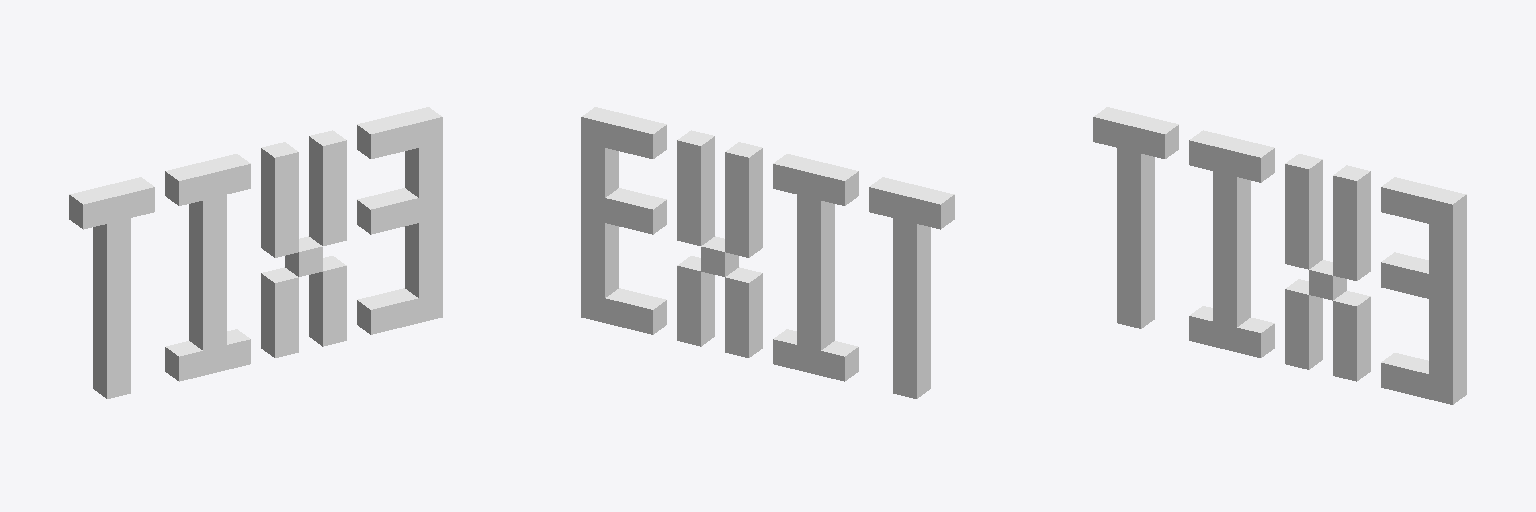
The model's file is title_exit.obj.
3 renders of one model, left to right at view 1: azimuth 30°, elevation 25°; view 2: azimuth 150°, elevation 25°; view 3: azimuth 330°, elevation 25°, orthographic.
Bounding box in the file's own units: 15 × 8 × 1.